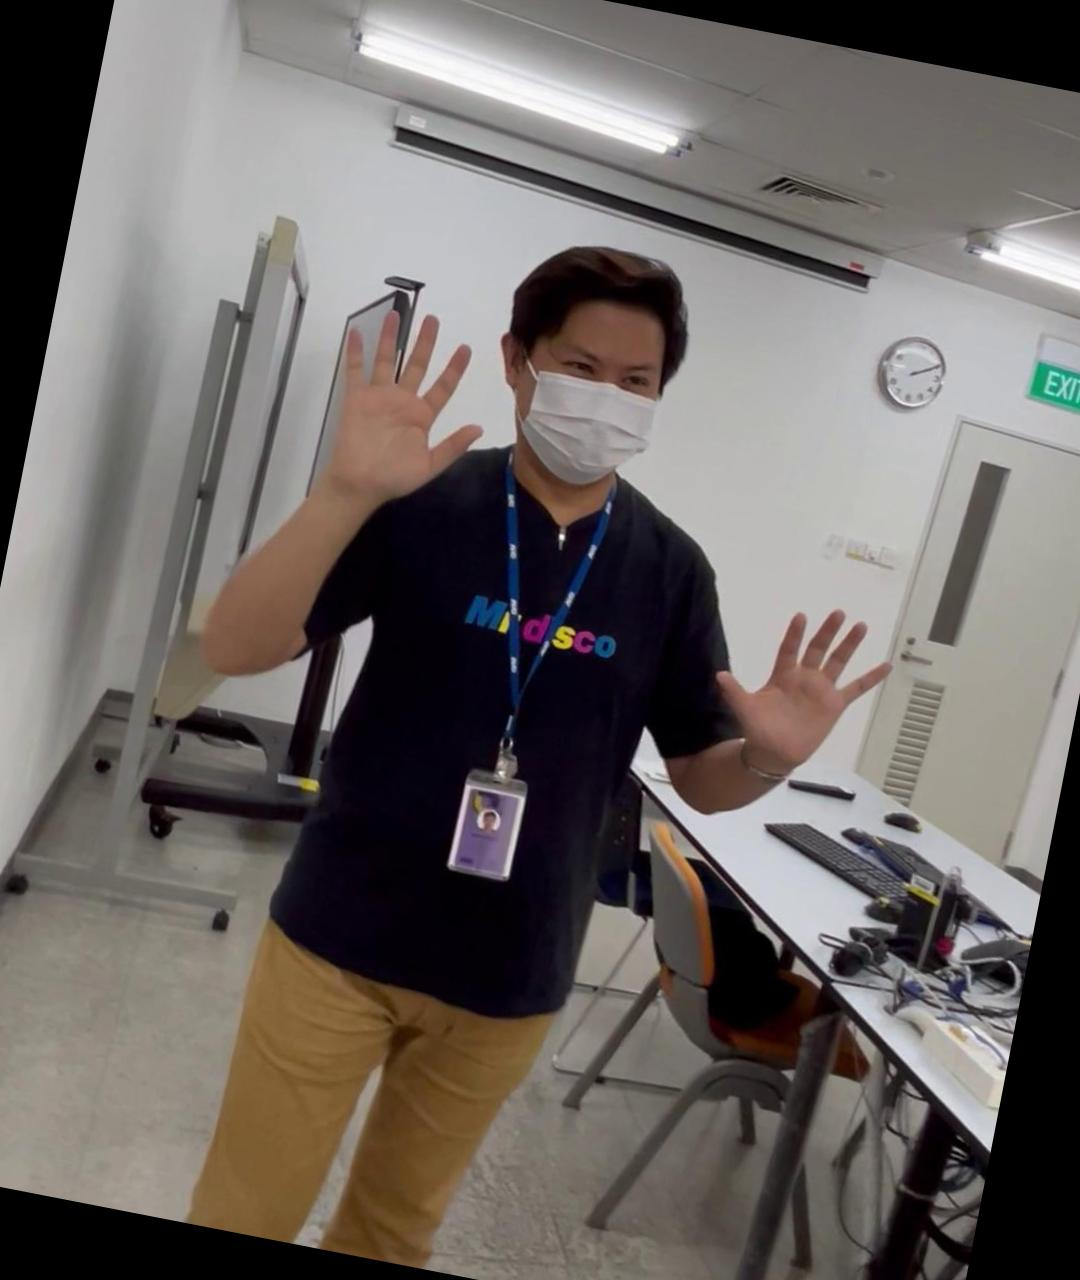No-gloves: (313, 290, 502, 510), (702, 582, 900, 783)
